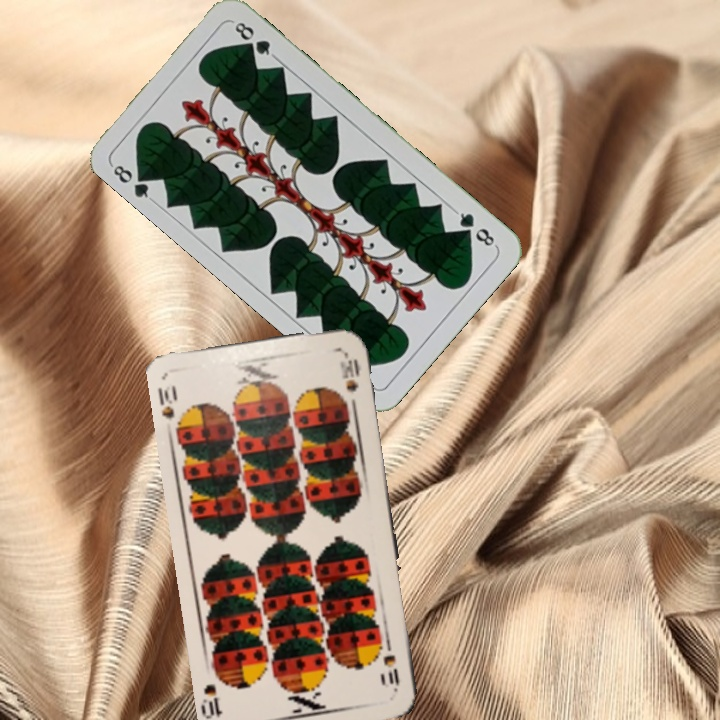G8: (450, 206, 499, 250), (107, 160, 156, 204)
S10: (380, 635, 402, 694), (154, 381, 180, 422)
